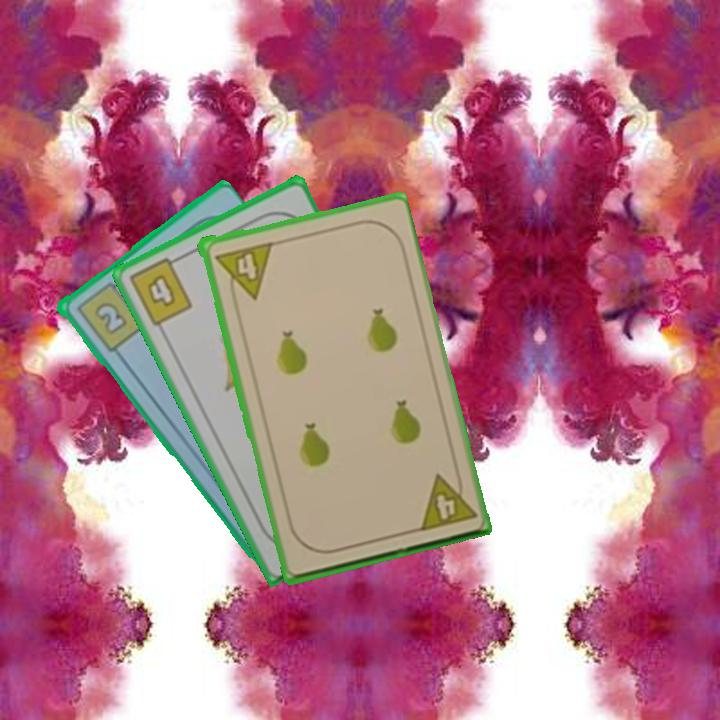2b: (71, 275, 147, 355)
4b: (124, 251, 195, 329)
4p: (415, 465, 479, 534), (210, 238, 274, 305)
